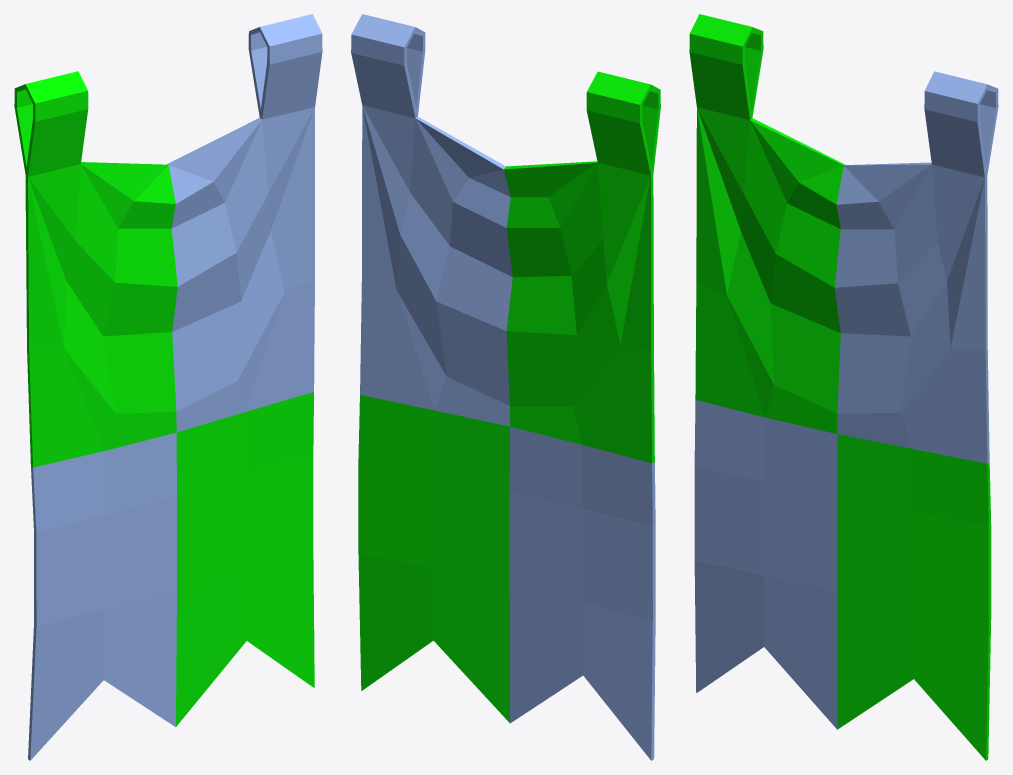
File: SM_Flag_Banner_Small_A_Fantasy.fbx
3 renders of one model, left to right at view 1: azimuth 30°, elevation 25°; view 2: azimuth 150°, elevation 25°; view 3: azimuth 330°, elevation 25°, orthographic.
Visible parts, largest first — view 1: flag-banner-small-a-fantasy; view 2: flag-banner-small-a-fantasy; view 3: flag-banner-small-a-fantasy.
Part boxes in pixels (bbox=[...]): flag-banner-small-a-fantasy: bbox=[14, 14, 322, 760]; flag-banner-small-a-fantasy: bbox=[351, 14, 660, 760]; flag-banner-small-a-fantasy: bbox=[689, 14, 998, 760].
Bounding box in the file's own units: 0.66 × 1.48 × 0.0831.
